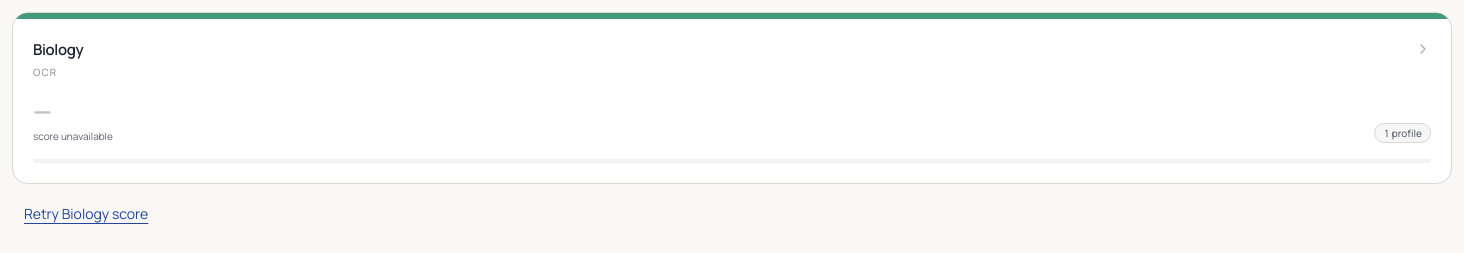
Test case: account-scoped workspace reads › shows a failed subject score honestly and retries through a separate accessible control
Expected: the text "score unavailable" is shown, [33,129,113,143]
Click the button "Retry Biology score" at (86, 214), box [12,192,160,236]
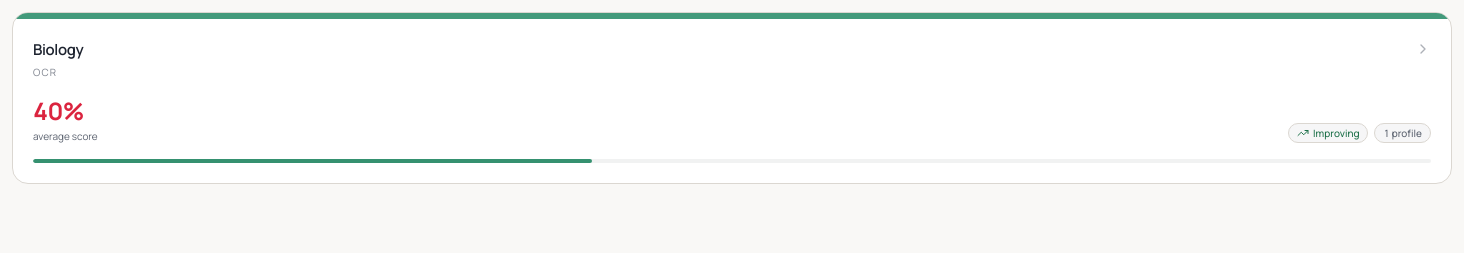
Now the text "40%" is shown, box [33,94,84,127]
Now the text "average score" is shown, box [33,129,98,143]
Now the button "Retry Biology score" is gone
